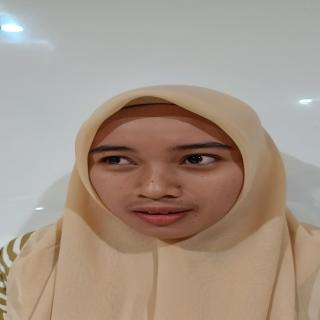Takut: (81, 95, 261, 249)
